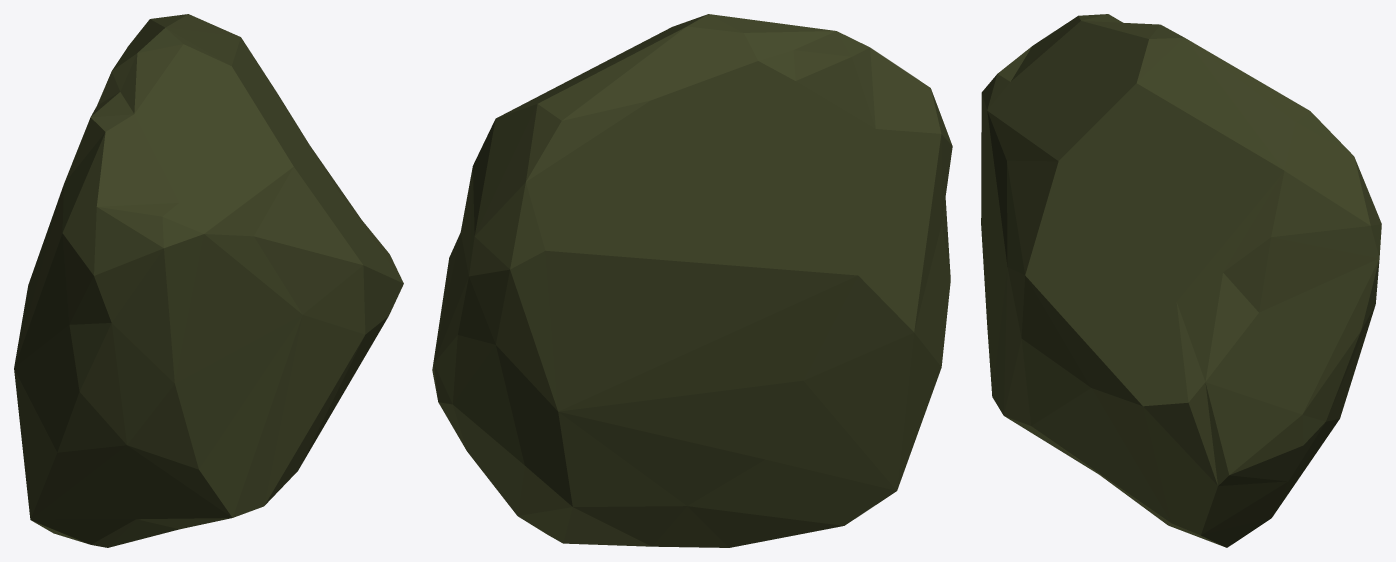
Rendered from SM_small_rock_39.fbx.
3 renders of one model, left to right at view 1: azimuth 30°, elevation 25°; view 2: azimuth 150°, elevation 25°; view 3: azimuth 270°, elevation 25°, orthographic. The views are drawn at different scales.
Visible parts, largest first — view 1: small_rock_39; view 2: small_rock_39; view 3: small_rock_39.
Boxes of the visible parts, box(x1,y1,x2,y2) form: small_rock_39: box(14, 14, 403, 547); small_rock_39: box(432, 14, 952, 547); small_rock_39: box(981, 14, 1381, 547).
Size of the model in its own units: 8.38 by 9.75 by 7.64.
